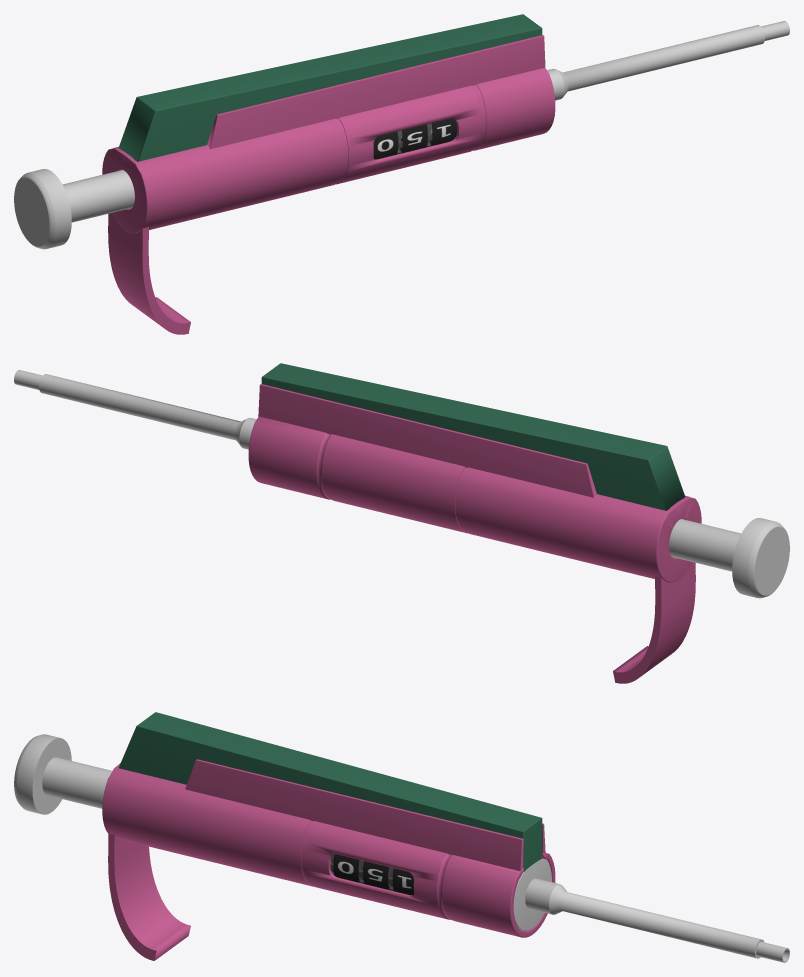
Rendered from Самплер.fbx.
3 views of the same model, one above another, from view 1: azimuth 30°, elevation 25°; view 2: azimuth 150°, elevation 25°; view 3: azimuth 330°, elevation 25° (orthographic).
Parts seen in each view (by area): view 1: Тушка, Сброс Куб, Стенка2, Труба, Объект Куб.2, Шляпка, Палка к шляпке, Стекло, Объект Цилиндр.2, Объект Цилиндр.3, Объект Цилиндр; view 2: Тушка, Сброс Куб, Стенка1, Труба, Объект Куб.2, Шляпка, Палка к шляпке; view 3: Тушка, Сброс Куб, Стенка2, Объект Куб.2, Труба, Шляпка, Палка к шляпке, Стекло, Диск от тушки, Объект Цилиндр.2, Объект Цилиндр, Кончик для наконечника (+1 smaller).
Boxes of the visible parts, bbox=[...] form: Тушка: bbox=[102, 67, 555, 233]; Сброс Куб: bbox=[118, 14, 542, 161]; Стенка2: bbox=[207, 35, 545, 149]; Труба: bbox=[547, 25, 764, 100]; Объект Куб.2: bbox=[108, 213, 190, 334]; Шляпка: bbox=[14, 169, 71, 249]; Палка к шляпке: bbox=[42, 170, 134, 222]; Стекло: bbox=[374, 119, 456, 158]; Объект Цилиндр.2: bbox=[400, 124, 427, 153]; Объект Цилиндр.3: bbox=[429, 118, 456, 146]; Объект Цилиндр: bbox=[373, 131, 398, 159]; Тушка: bbox=[248, 416, 701, 582]; Сброс Куб: bbox=[261, 363, 685, 510]; Стенка1: bbox=[258, 384, 596, 497]; Труба: bbox=[39, 374, 256, 449]; Объект Куб.2: bbox=[613, 562, 695, 683]; Шляпка: bbox=[732, 518, 789, 598]; Палка к шляпке: bbox=[669, 519, 761, 571]; Тушка: bbox=[102, 763, 555, 937]; Сброс Куб: bbox=[118, 712, 542, 871]; Стенка2: bbox=[185, 759, 523, 871]; Объект Куб.2: bbox=[108, 833, 190, 960]; Труба: bbox=[525, 878, 764, 958]; Шляпка: bbox=[14, 734, 71, 814]; Палка к шляпке: bbox=[42, 757, 112, 808]; Стекло: bbox=[331, 855, 413, 894]; Диск от тушки: bbox=[513, 858, 551, 930]; Объект Цилиндр.2: bbox=[363, 861, 391, 889]; Объект Цилиндр: bbox=[333, 854, 361, 882]; Кончик для наконечника: bbox=[756, 941, 789, 962].
Bounding box in the file's own units: 22.15 × 6.27 × 2.29.
Materials: 21 (3 with a texture image).
